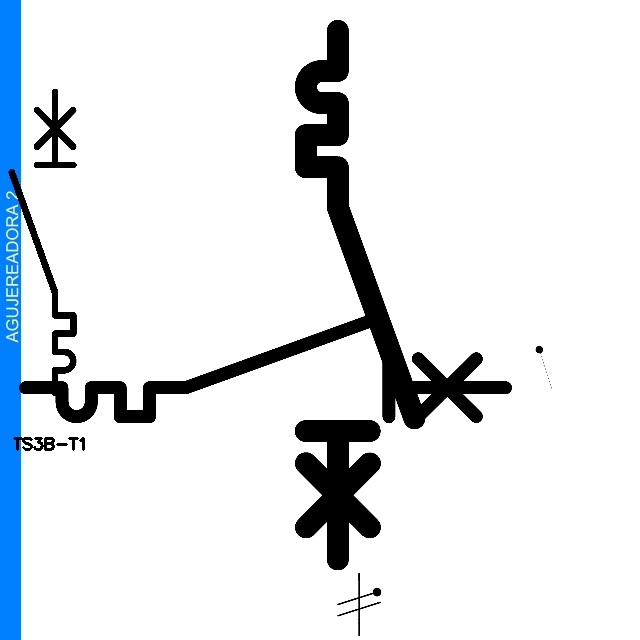interruptor_termomagnetico: (292, 17, 428, 573), (13, 306, 518, 429), (4, 84, 81, 401)
